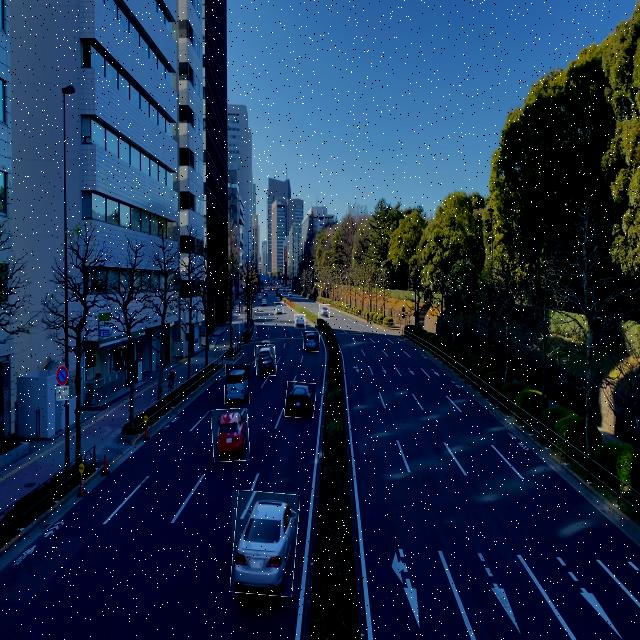Car: (232, 492, 298, 596), (212, 409, 249, 462), (285, 382, 316, 417), (225, 364, 250, 404), (256, 345, 276, 376), (303, 332, 320, 352), (294, 314, 306, 329), (319, 304, 330, 319), (274, 302, 284, 315)
